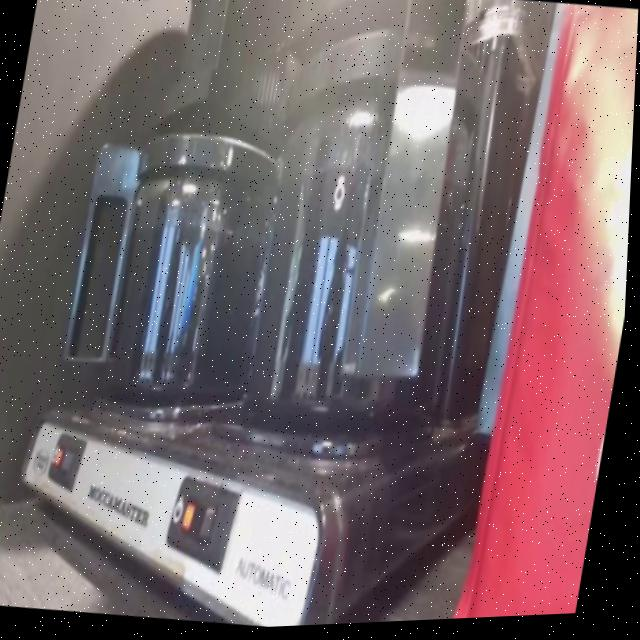coffee: (231, 12, 513, 458), (74, 106, 317, 432)
